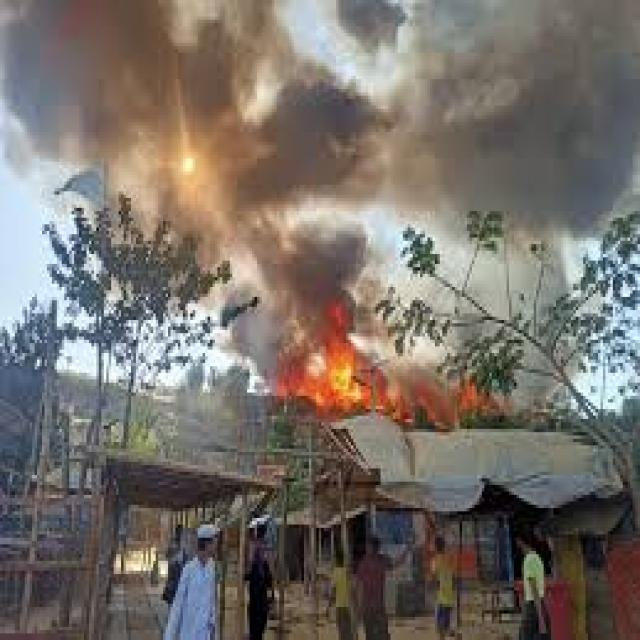fire: (276, 340, 502, 426)
smoke: (2, 4, 640, 336)
